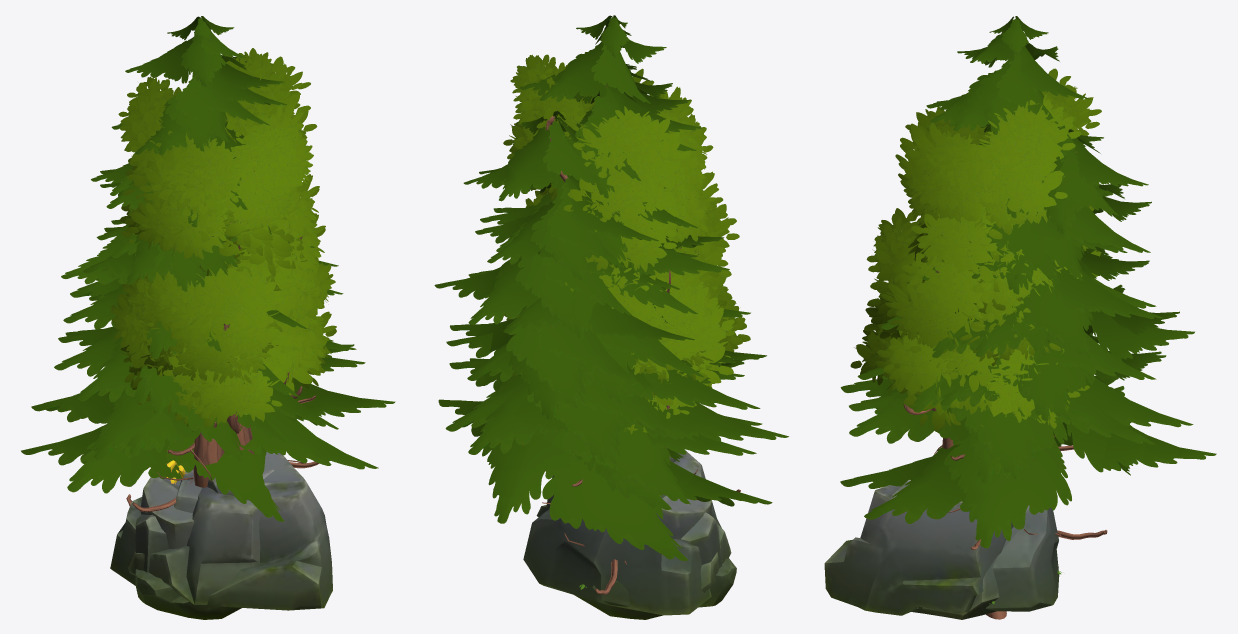
File: nature.glb
The picture shows the model from 3 angles, left to right: view 1: azimuth 30°, elevation 25°; view 2: azimuth 150°, elevation 25°; view 3: azimuth 270°, elevation 25°; orthographic projection. The views are drawn at different scales.
Visible parts, largest first — view 1: Pine_4, CommonTree_3, Pine_5, CommonTree_2, Rock_Medium_3, CommonTree_4, Rock_Medium_1, CommonTree_5, Rock_Medium_2; view 2: Pine_5, Pine_4, CommonTree_3, Rock_Medium_2, CommonTree_4, CommonTree_2, CommonTree_5, Rock_Medium_1, Rock_Medium_3; view 3: Pine_5, Pine_4, CommonTree_4, Rock_Medium_3, CommonTree_3, CommonTree_2, Rock_Medium_2, CommonTree_5, Rock_Medium_1.
Boxes of the visible parts, <box> form: Pine_4: <box>31,16,356,512</box>; CommonTree_3: <box>118,55,335,389</box>; Pine_5: <box>21,163,395,522</box>; CommonTree_2: <box>110,203,336,454</box>; Rock_Medium_3: <box>135,452,332,619</box>; CommonTree_4: <box>125,48,319,487</box>; Rock_Medium_1: <box>127,469,274,604</box>; CommonTree_5: <box>121,231,317,431</box>; Rock_Medium_2: <box>110,477,194,585</box>; Pine_5: <box>434,111,772,560</box>; Pine_4: <box>445,15,788,594</box>; CommonTree_3: <box>531,62,739,400</box>; Rock_Medium_2: <box>523,495,711,615</box>; CommonTree_4: <box>503,54,713,456</box>; CommonTree_2: <box>504,194,750,409</box>; CommonTree_5: <box>565,247,734,434</box>; Rock_Medium_1: <box>548,449,731,619</box>; Rock_Medium_3: <box>536,475,736,607</box>; Pine_5: <box>840,125,1216,548</box>; Pine_4: <box>840,16,1166,550</box>; CommonTree_4: <box>895,68,1101,619</box>; Rock_Medium_3: <box>824,479,1013,615</box>; CommonTree_3: <box>864,94,1099,619</box>; CommonTree_2: <box>850,199,1089,619</box>; Rock_Medium_2: <box>985,505,1059,611</box>; CommonTree_5: <box>877,245,1101,414</box>; Rock_Medium_1: <box>911,527,1058,619</box>.
Size of the model in its own units: 6.42 by 10.32 by 6.36.
Materials: 10 (10 with a texture image).
